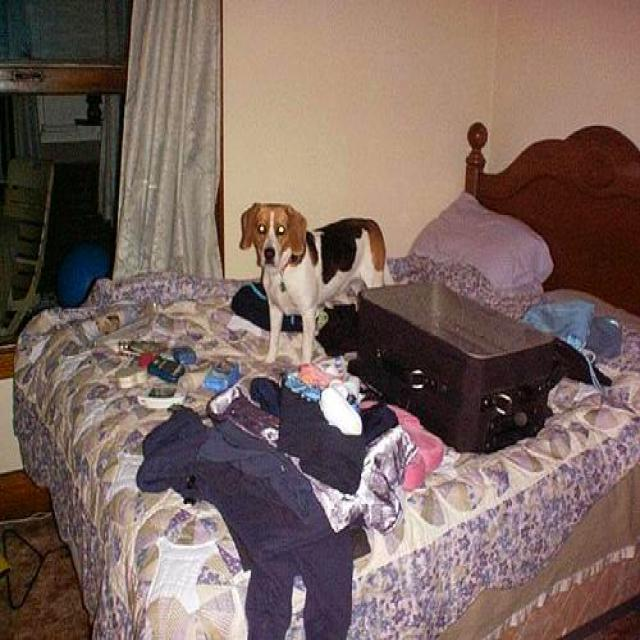beagle: (233, 196, 389, 366)
